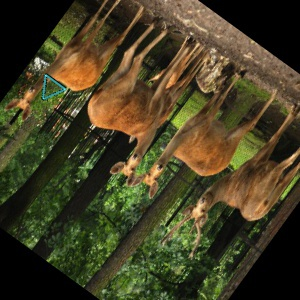triangle: (39, 72, 69, 101)
